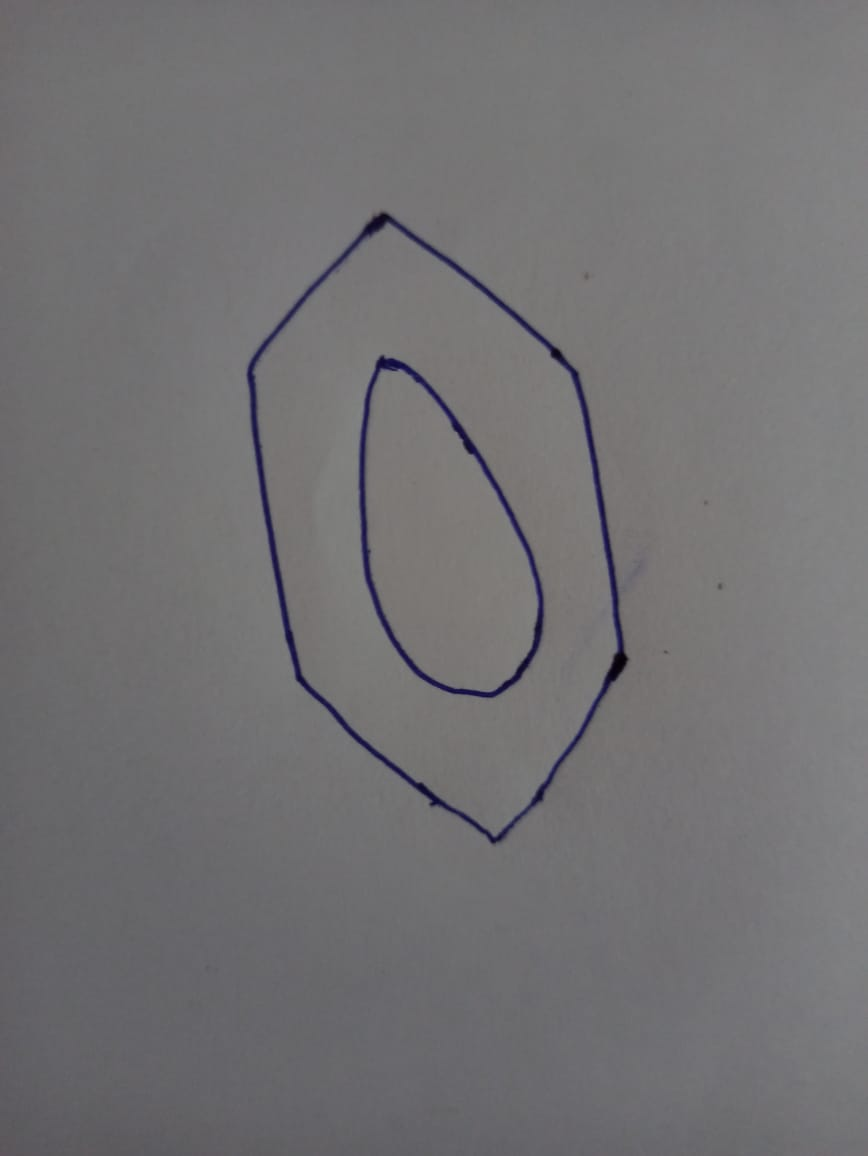shape_mask: (190, 185, 705, 884)
